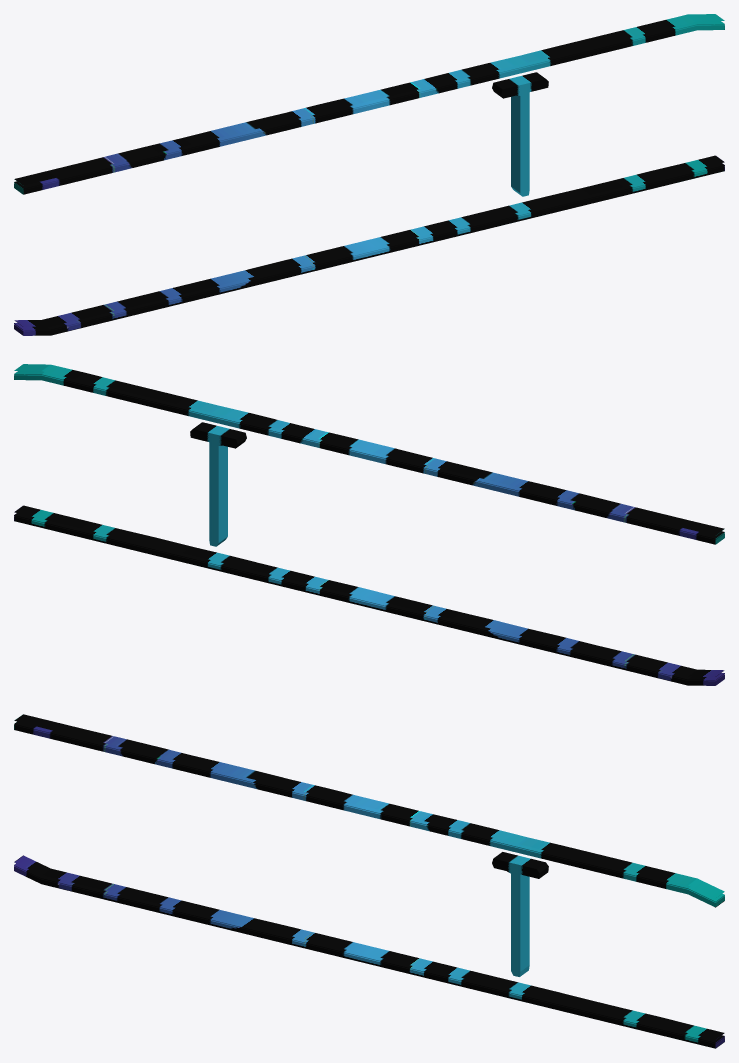
The model's file is ambient-it.glb.
The picture shows the model from 3 angles, top to bottom: view 1: azimuth 30°, elevation 25°; view 2: azimuth 150°, elevation 25°; view 3: azimuth 330°, elevation 25°; orthographic projection.
Visible parts, largest first — view 1: Curve; view 2: Curve; view 3: Curve.
Boxes of the visible parts, bbox=[...] form: Curve: bbox=[14, 14, 724, 335]; Curve: bbox=[14, 364, 724, 685]; Curve: bbox=[14, 714, 724, 1048].
Bounding box in the file's own units: 0.218 × 0.0465 × 0.005.
1 material, 1 textured.
